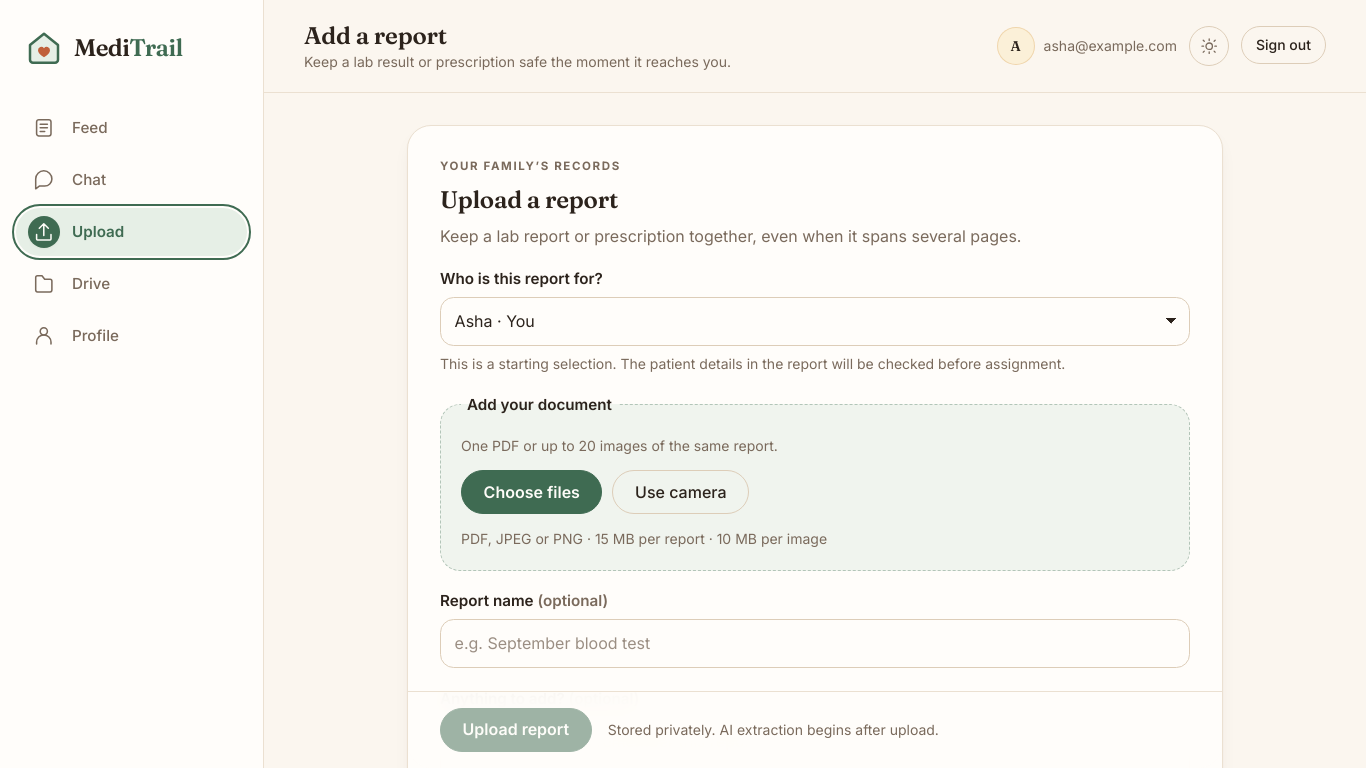
Test case: OnboardingWizard › shows the recorded age and weight on the completed summary
Click the tab "Profile" at (132, 336), box [16,312,247,360]
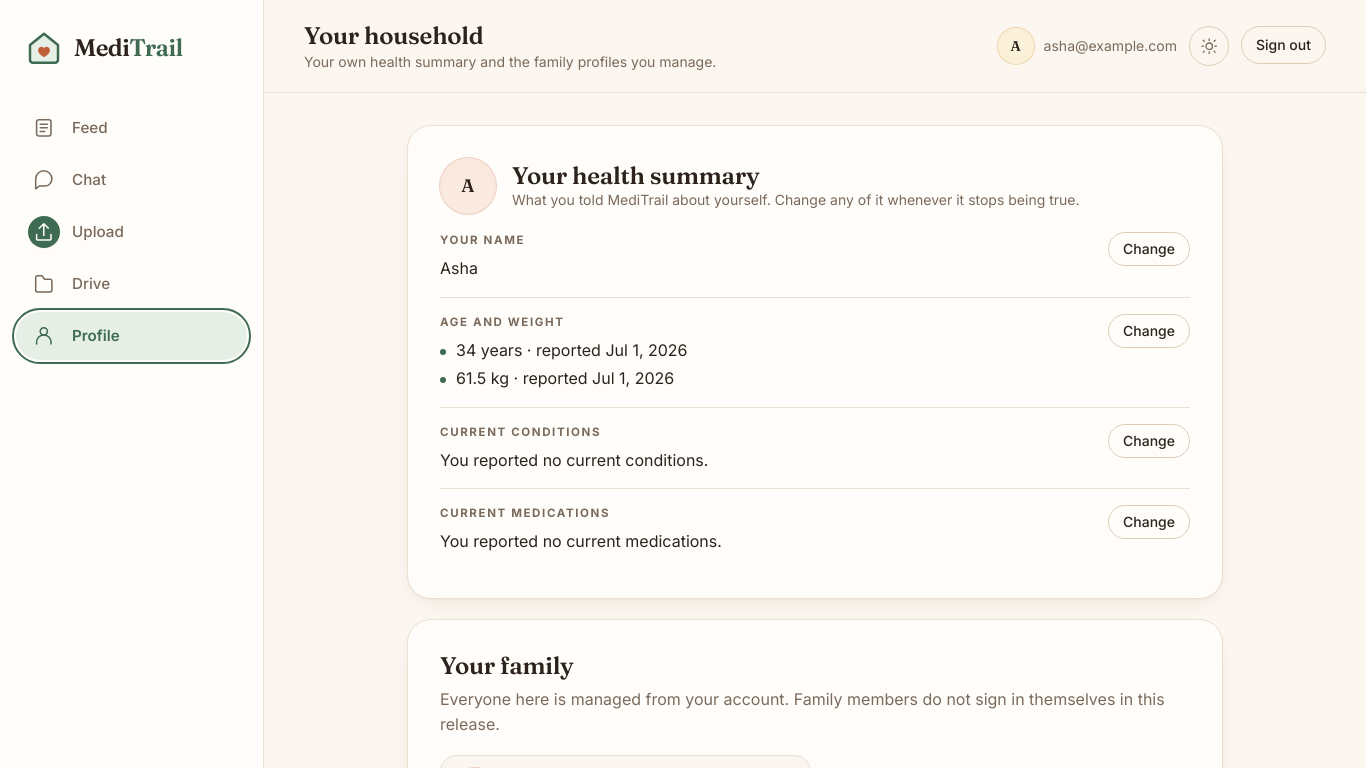
Now the heading "Your health summary" is shown, box [512,161,760,190]
Now the list item "34 years · reported Jul 1, 2026" is shown, box [440,338,688,363]
Now the list item "61.5 kg · reported Jul 1, 2026" is shown, box [440,366,688,391]
